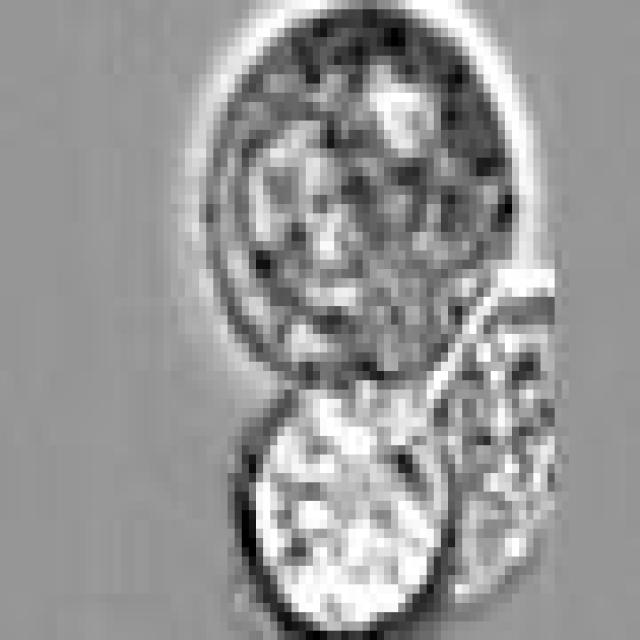Cancer Cell: (206, 9, 526, 399)
WBC: (249, 371, 462, 631), (405, 297, 569, 603)
